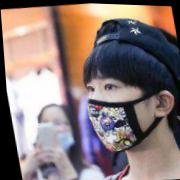OK: (80, 60, 153, 155)
WRONG: (34, 106, 76, 159)
